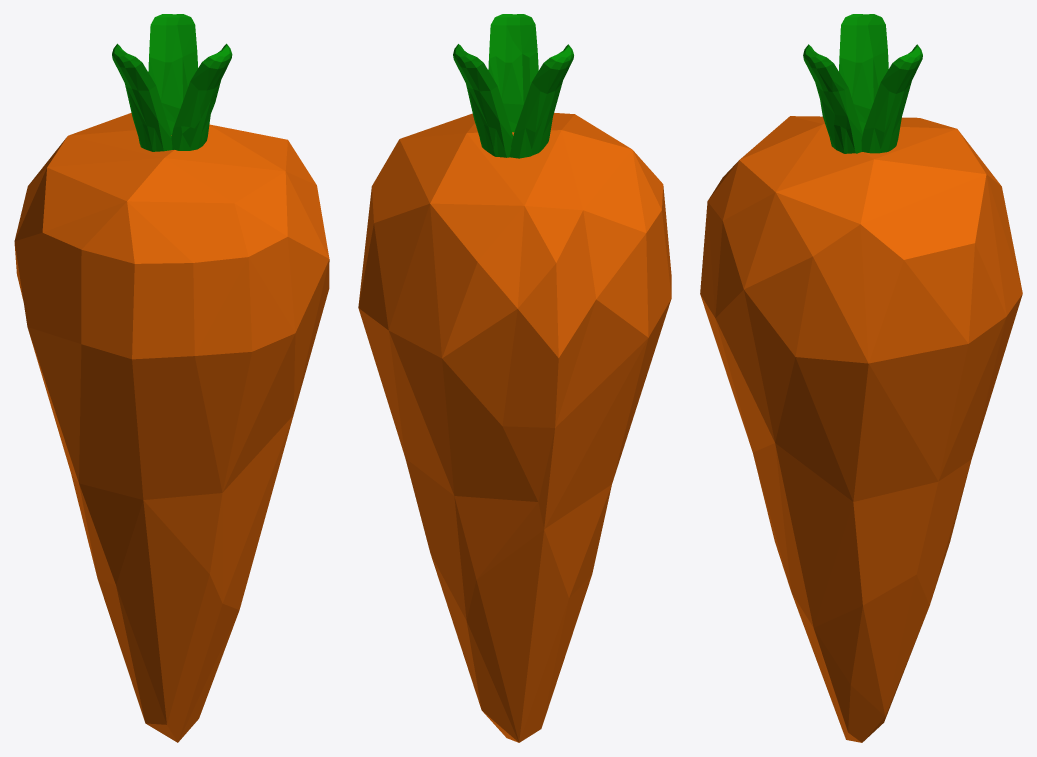
The model's file is carrot.glb.
3 views of the same model, side by side, from view 1: azimuth 30°, elevation 25°; view 2: azimuth 150°, elevation 25°; view 3: azimuth 270°, elevation 25° (orthographic).
Visible parts, largest first — view 1: Cube.008; view 2: Cube.008; view 3: Cube.008.
Boxes of the visible parts, left/top/right/bottom form: Cube.008: left=14, top=14, right=329, bottom=742; Cube.008: left=358, top=14, right=671, bottom=742; Cube.008: left=700, top=14, right=1022, bottom=742.
Size of the model in its own units: 0.1823 by 0.4349 by 0.1809.
